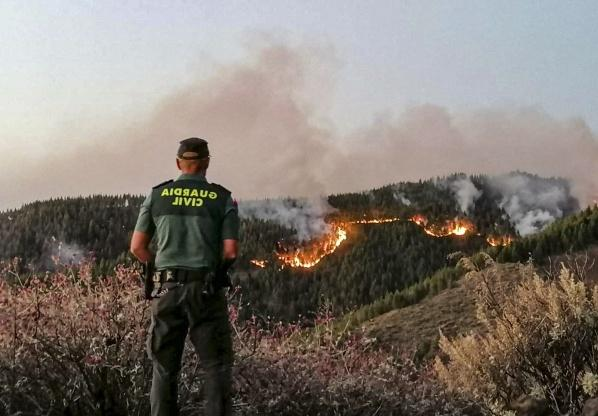victim: (130, 132, 244, 414)
